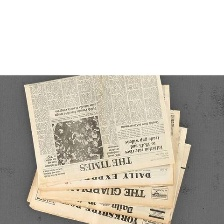news_paper: (20, 74, 179, 187), (15, 140, 194, 224), (34, 121, 191, 210)
